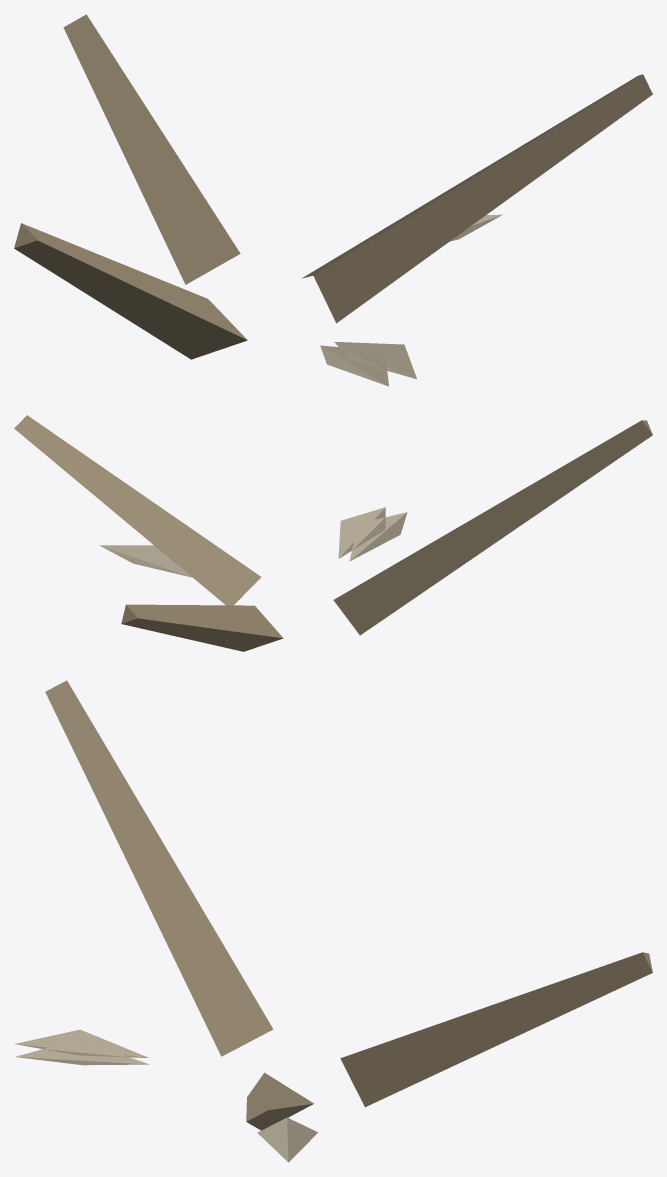
File: guan.zhen@withered__winter.glb
3 views of the same model, one above another, from view 1: azimuth 30°, elevation 25°; view 2: azimuth 150°, elevation 25°; view 3: azimuth 270°, elevation 25° (orthographic). The views are drawn at different scales.
Visible parts, largest first — view 1: guan.zhen@withered__winter; view 2: guan.zhen@withered__winter; view 3: guan.zhen@withered__winter.
Boxes of the visible parts, x1=… form: guan.zhen@withered__winter: x1=14, y1=14, x2=652, y2=386; guan.zhen@withered__winter: x1=14, y1=415, x2=652, y2=651; guan.zhen@withered__winter: x1=15, y1=680, x2=652, y2=1162.
Bounding box in the file's own units: 1.03 × 0.3741 × 0.8322.
